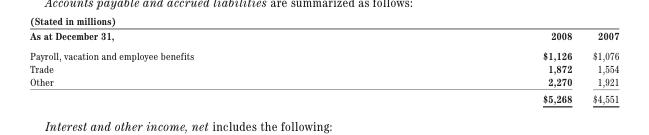table: (29, 28, 618, 104)
table column: (29, 28, 367, 104), (367, 28, 581, 104), (581, 28, 618, 104)
table column header: (29, 28, 618, 45)
table row: (29, 28, 618, 45), (29, 45, 618, 62), (29, 74, 618, 89), (29, 89, 618, 104), (29, 62, 618, 74)
